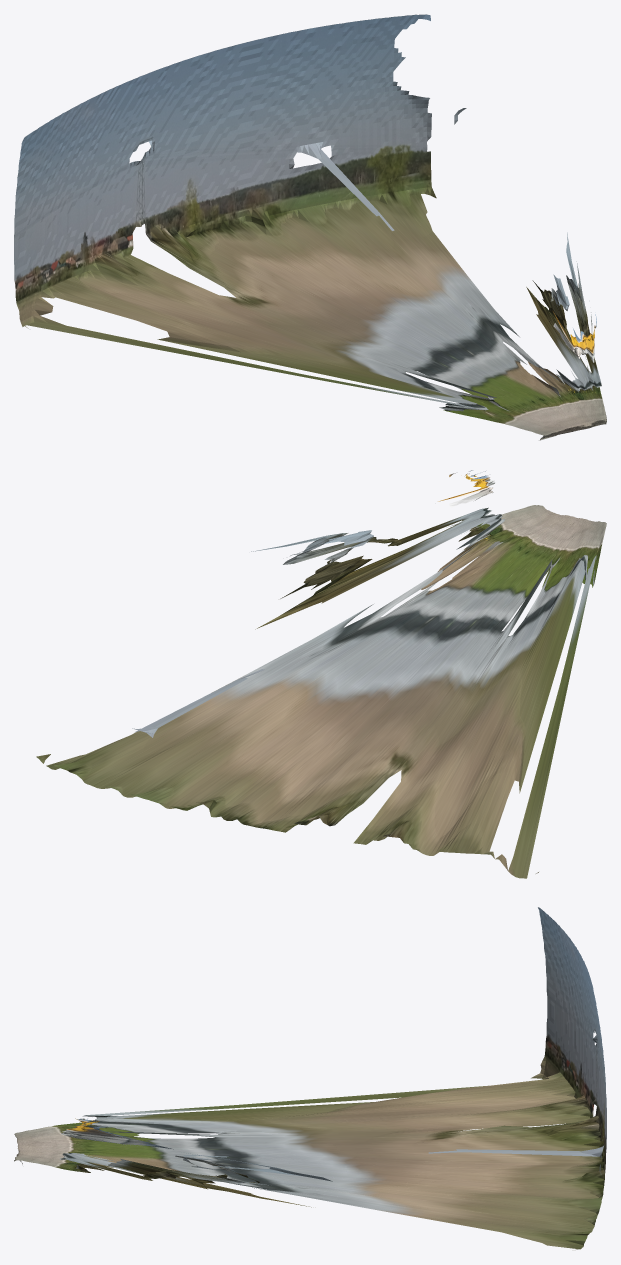
The picture shows the model from 3 angles, top to bottom: view 1: azimuth 30°, elevation 25°; view 2: azimuth 150°, elevation 25°; view 3: azimuth 270°, elevation 25°; orthographic projection. The views are drawn at different scales.
Parts seen in each view (by area): view 1: defaultobject; view 2: defaultobject; view 3: defaultobject.
Part boxes in pixels (<box>): defaultobject: <box>14,14,606,440</box>; defaultobject: <box>36,470,606,878</box>; defaultobject: <box>14,907,606,1249</box>.
Size of the model in its own units: 35.89 by 14.98 by 44.35.
Materials: 1 (1 with a texture image).
